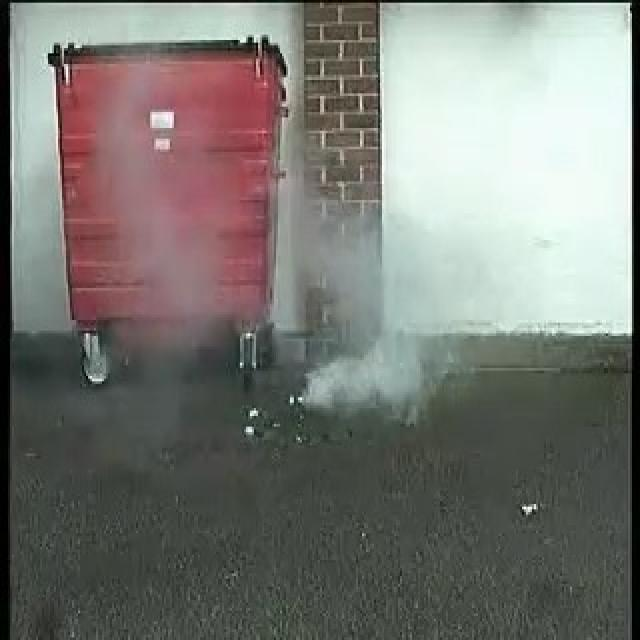smoke: (278, 200, 438, 420)
